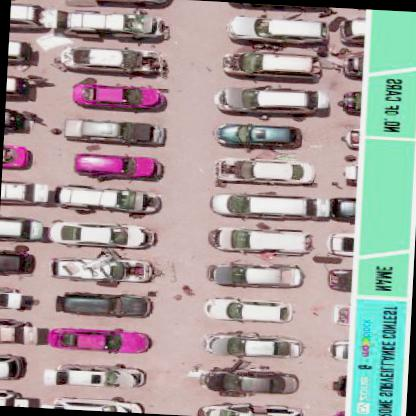car: (61, 7, 168, 41), (46, 219, 157, 249), (60, 184, 163, 216), (46, 324, 150, 355), (72, 112, 166, 146), (209, 223, 308, 255), (209, 328, 304, 360), (221, 48, 315, 80), (203, 363, 297, 395), (210, 190, 316, 218), (51, 256, 153, 285), (214, 84, 315, 113), (63, 286, 152, 318), (227, 10, 317, 40), (63, 46, 164, 72), (74, 79, 158, 110), (208, 258, 297, 287), (72, 152, 164, 180), (212, 119, 300, 148), (210, 294, 294, 322), (52, 363, 142, 389), (218, 156, 302, 182), (50, 393, 146, 412), (203, 398, 296, 415), (10, 0, 58, 30), (1, 178, 49, 204), (0, 213, 43, 241), (0, 316, 39, 346), (0, 285, 39, 313), (0, 244, 34, 276), (0, 351, 29, 380), (0, 387, 31, 407)
